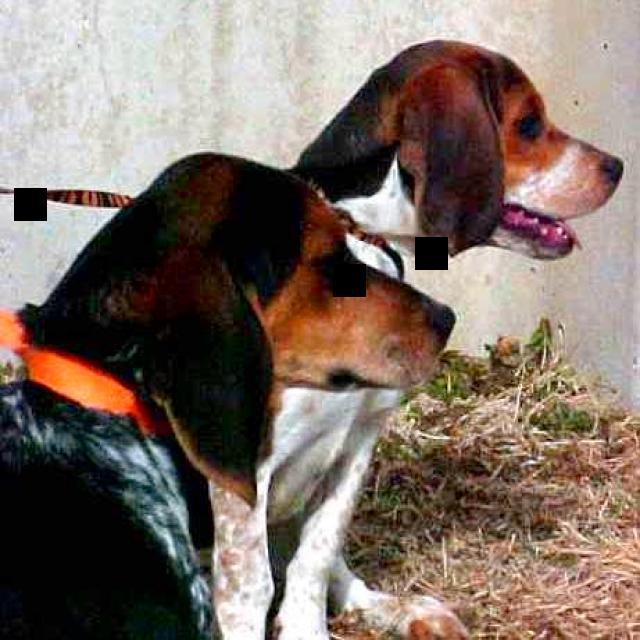adult_dog: (205, 28, 628, 639), (0, 144, 459, 640)
